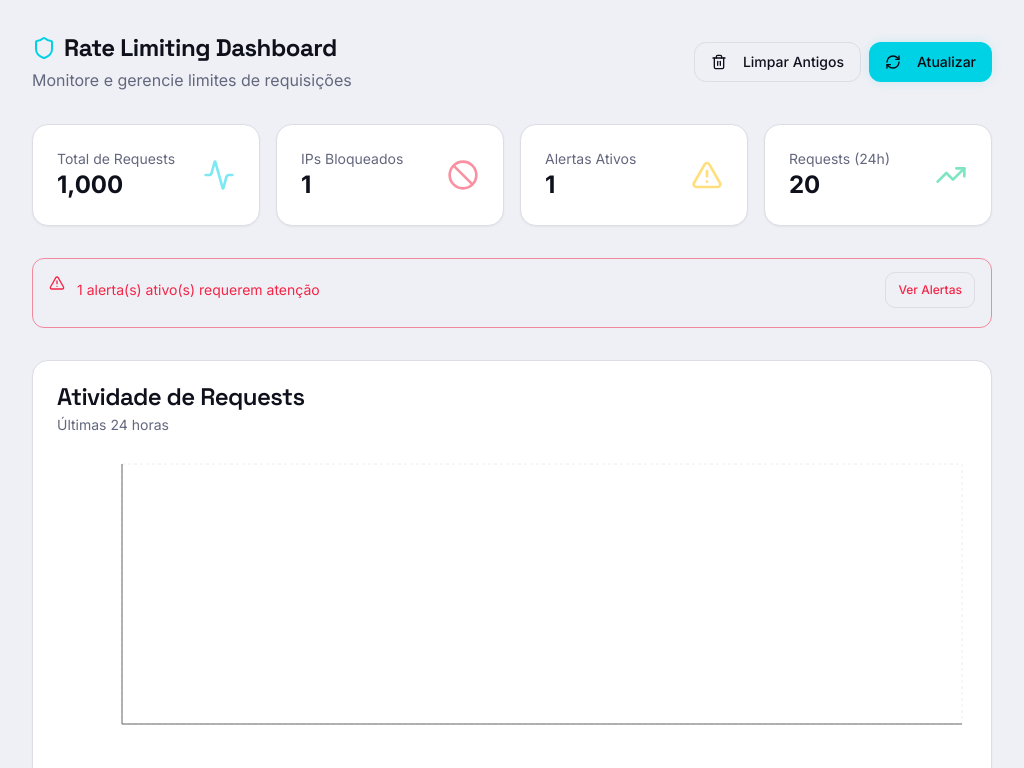
RateLimitDashboard — "Ver Alertas" (etapa 167) › abre a lista de alertas na propria tela, sem perder o contexto do incidente
This screenshot has width=1024, height=768.
Check: the text "Alertas de Rate Limit" is not shown
Click the button "Ver Alertas": (930, 290) [885,272,975,308]
(page scrolled)
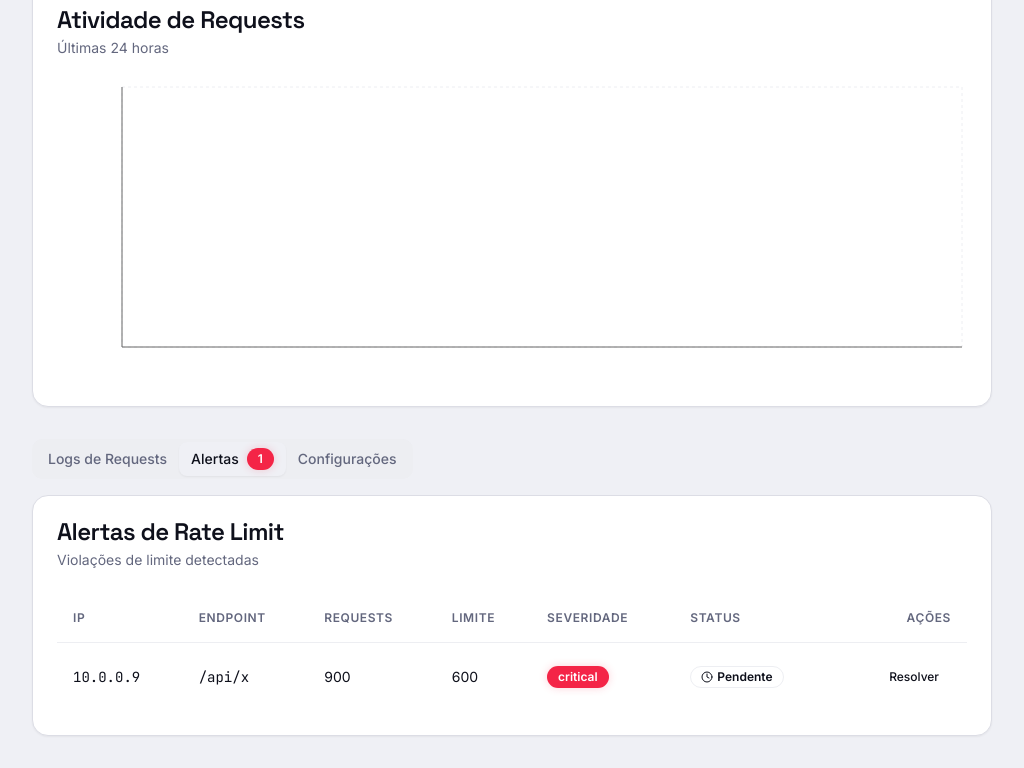
Check: the heading "Alertas de Rate Limit" is shown, box [57,516,284,547]
Check: the text "10.0.0.9" is shown, box [57,642,183,710]
